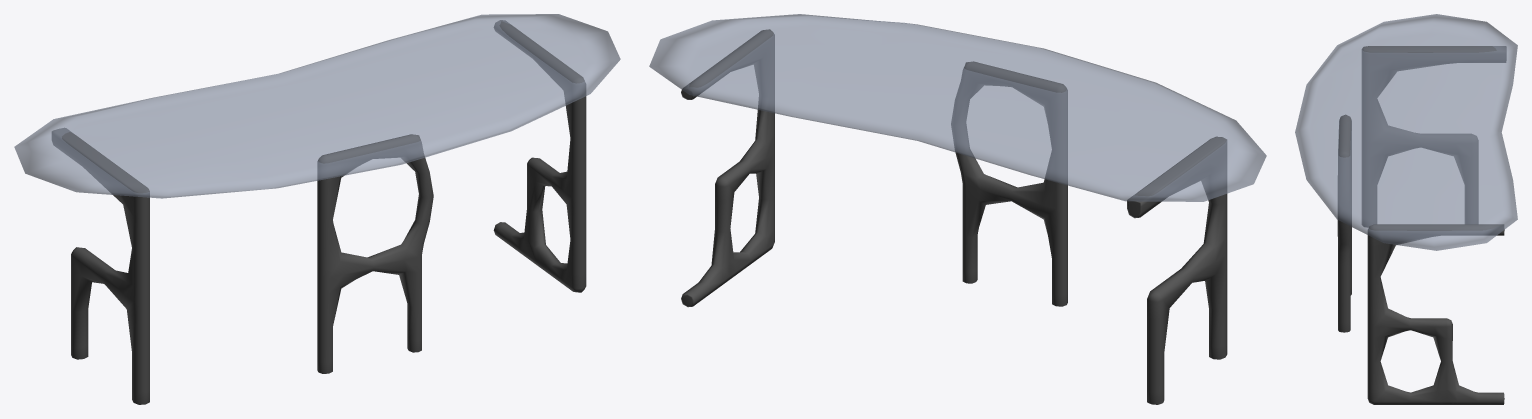
File: Desk.fbx
3 views of the same model, side by side, from view 1: azimuth 30°, elevation 25°; view 2: azimuth 150°, elevation 25°; view 3: azimuth 270°, elevation 25° (orthographic). The views are drawn at different scales.
Parts seen in each view (by area): view 1: top1, r, f, e; view 2: top1, r, f, e; view 3: top1, f, e, r.
Part boxes in pixels (left/top/right/bottom): top1: left=14, top=14, right=620, bottom=198; r: left=317, top=134, right=433, bottom=373; f: left=52, top=128, right=149, bottom=404; e: left=493, top=20, right=586, bottom=292; top1: left=649, top=14, right=1266, bottom=201; r: left=951, top=61, right=1067, bottom=306; f: left=1127, top=136, right=1227, bottom=404; e: left=681, top=29, right=774, bottom=307; top1: left=1295, top=14, right=1517, bottom=250; f: left=1362, top=46, right=1506, bottom=227; e: left=1367, top=224, right=1504, bottom=404; r: left=1337, top=114, right=1351, bottom=332.
Size of the model in its own units: 13.59 by 5.19 by 5.4.
